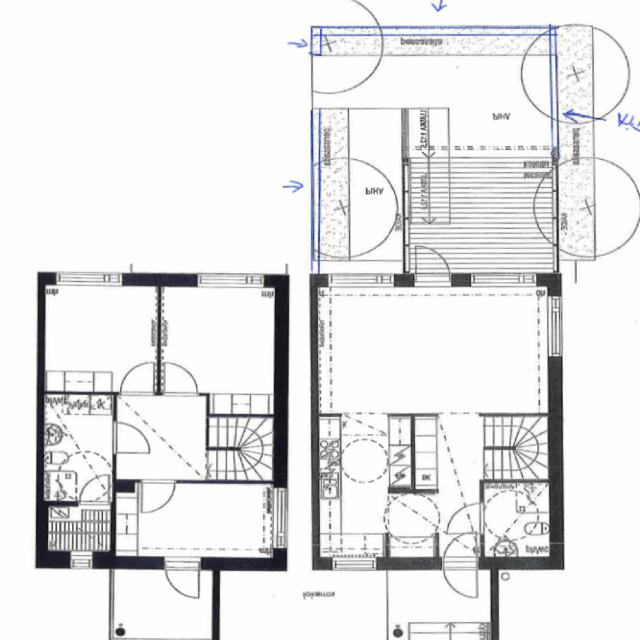door: (165, 557, 202, 604), (416, 241, 452, 287), (443, 556, 477, 600), (443, 525, 477, 569), (444, 504, 484, 535), (120, 361, 154, 394), (114, 422, 150, 452), (165, 361, 197, 394), (142, 480, 175, 512), (80, 475, 109, 506)
